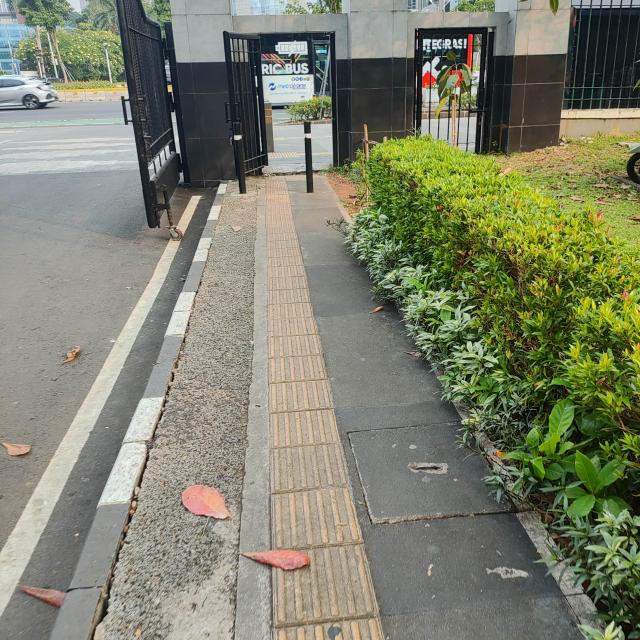lurus: (245, 190, 369, 640)
